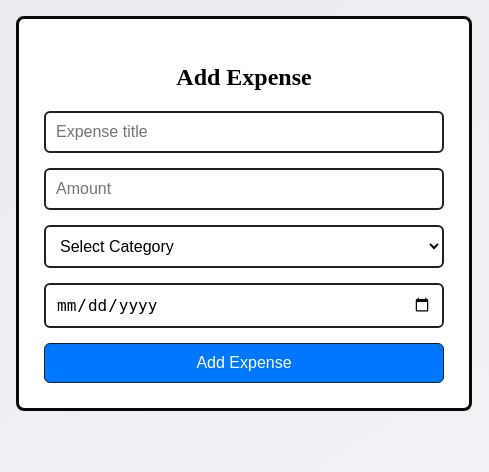
it: AddExpense Component › shows server error if API fails
This screenshot has width=489, height=472.
Type "Taxi" into the field with test id "title-input" at (244, 132), box [44, 111, 444, 153]
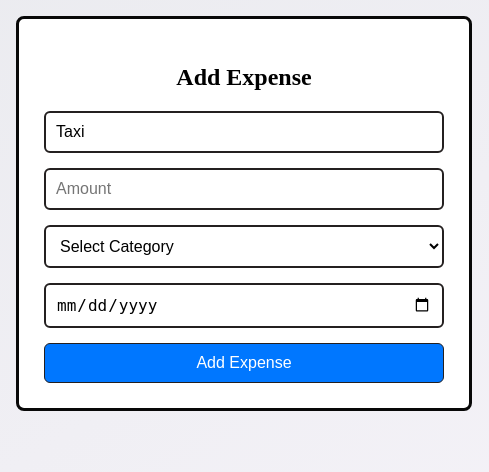
Type "50" into the number field with test id "amount-input" at (244, 189), box [44, 168, 444, 210]
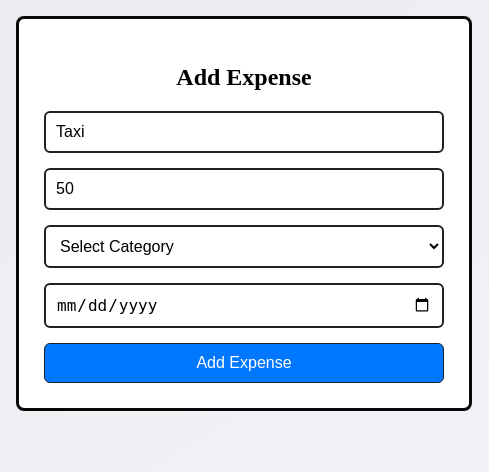
Select "Transport" in the dropdown with test id "category-select" at (244, 246), box [44, 225, 444, 268]
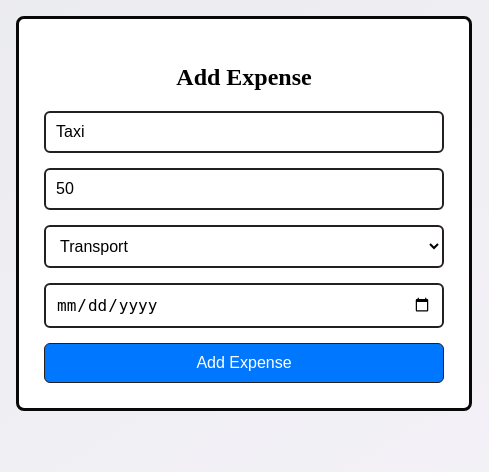
Type "2025-12-01" into the date field with test id "date-input" at (244, 305), box [44, 283, 444, 328]
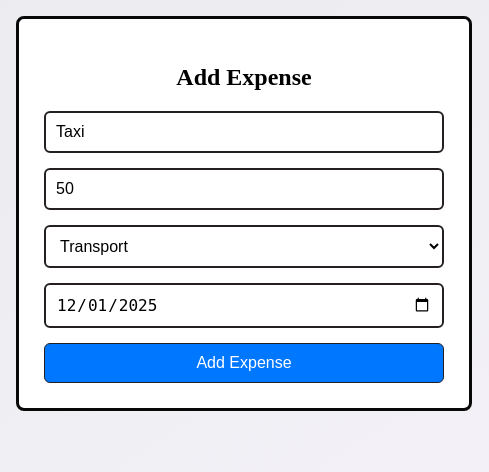
Click the button "Add Expense" at (244, 363), box [44, 343, 444, 383]
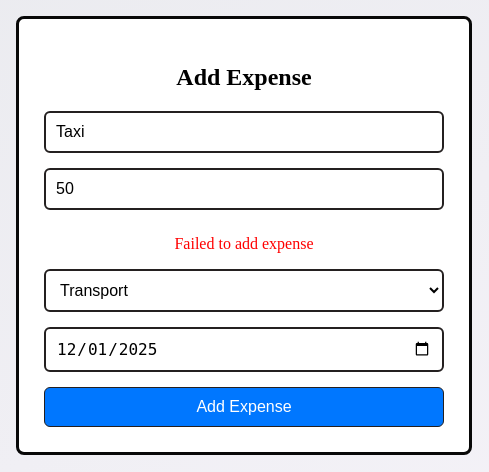
Result: the text "Failed to add expense" is shown at [174, 235, 314, 252]
